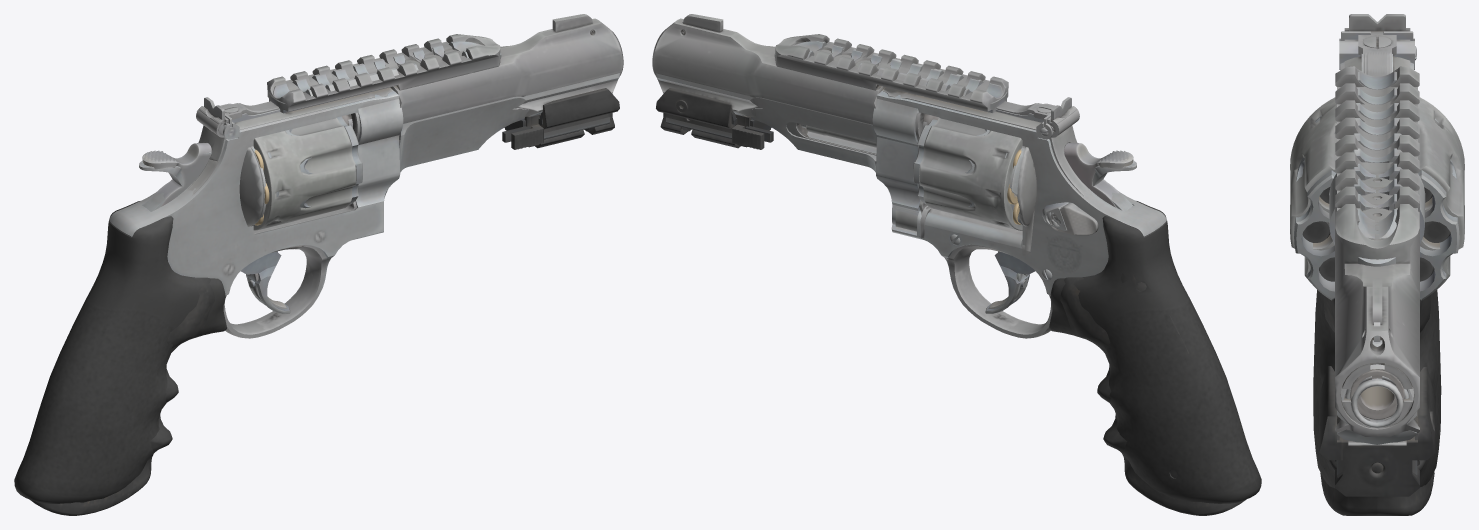
The model's file is weapon_revolver.glb.
3 renders of one model, left to right at view 1: azimuth 30°, elevation 25°; view 2: azimuth 150°, elevation 25°; view 3: azimuth 270°, elevation 25°, orthographic. The views are drawn at different scales.
Parts seen in each view (by area): view 1: weapons/models/revolver/weapon_pist_revolver.vmdl_c.body_leg, weapons/models/revolver/weapon_pist_revolver.vmdl_c.body_hd; view 2: weapons/models/revolver/weapon_pist_revolver.vmdl_c.body_leg, weapons/models/revolver/weapon_pist_revolver.vmdl_c.body_hd; view 3: weapons/models/revolver/weapon_pist_revolver.vmdl_c.body_hd, weapons/models/revolver/weapon_pist_revolver.vmdl_c.body_leg.
Boxes of the visible parts, left/top/right/bottom form: weapons/models/revolver/weapon_pist_revolver.vmdl_c.body_leg: left=14, top=22, right=619, bottom=503; weapons/models/revolver/weapon_pist_revolver.vmdl_c.body_hd: left=29, top=14, right=623, bottom=515; weapons/models/revolver/weapon_pist_revolver.vmdl_c.body_leg: left=656, top=22, right=1261, bottom=503; weapons/models/revolver/weapon_pist_revolver.vmdl_c.body_hd: left=652, top=14, right=1246, bottom=515; weapons/models/revolver/weapon_pist_revolver.vmdl_c.body_hd: left=1290, top=14, right=1464, bottom=515; weapons/models/revolver/weapon_pist_revolver.vmdl_c.body_leg: left=1294, top=31, right=1459, bottom=488.
Bounding box in the file's own units: 12.18 × 7.17 × 1.96.
Materials: 2 (2 with a texture image).
